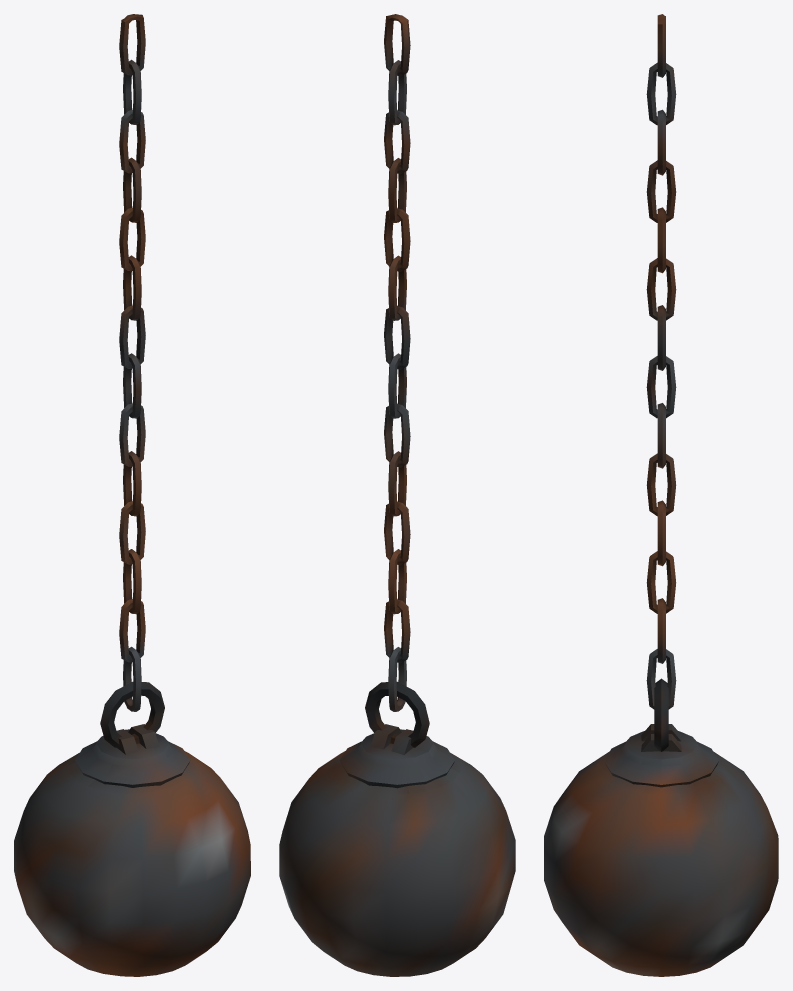
Rendered from wrecking_ball.glb.
The picture shows the model from 3 angles, left to right: view 1: azimuth 30°, elevation 25°; view 2: azimuth 150°, elevation 25°; view 3: azimuth 270°, elevation 25°; orthographic projection.
Visible parts, largest first — view 1: Ball, Chain; view 2: Ball, Chain; view 3: Ball, Chain.
Boxes of the visible parts, x1=… form: Ball: x1=14, y1=681, x2=250, y2=976; Chain: x1=119, y1=14, x2=145, y2=711; Ball: x1=279, y1=681, x2=515, y2=976; Chain: x1=384, y1=14, x2=410, y2=711; Ball: x1=544, y1=678, x2=778, y2=976; Chain: x1=646, y1=14, x2=676, y2=709.
Bounding box in the file's own units: 1.56 × 7 × 1.57.
